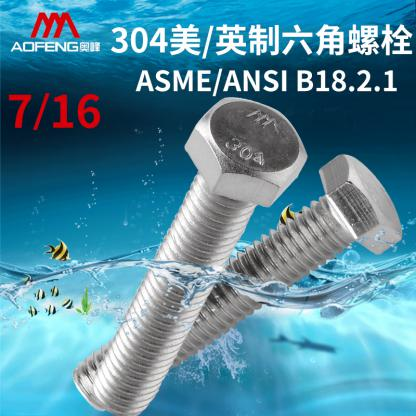FOD: (72, 149, 406, 411), (90, 94, 309, 414)
